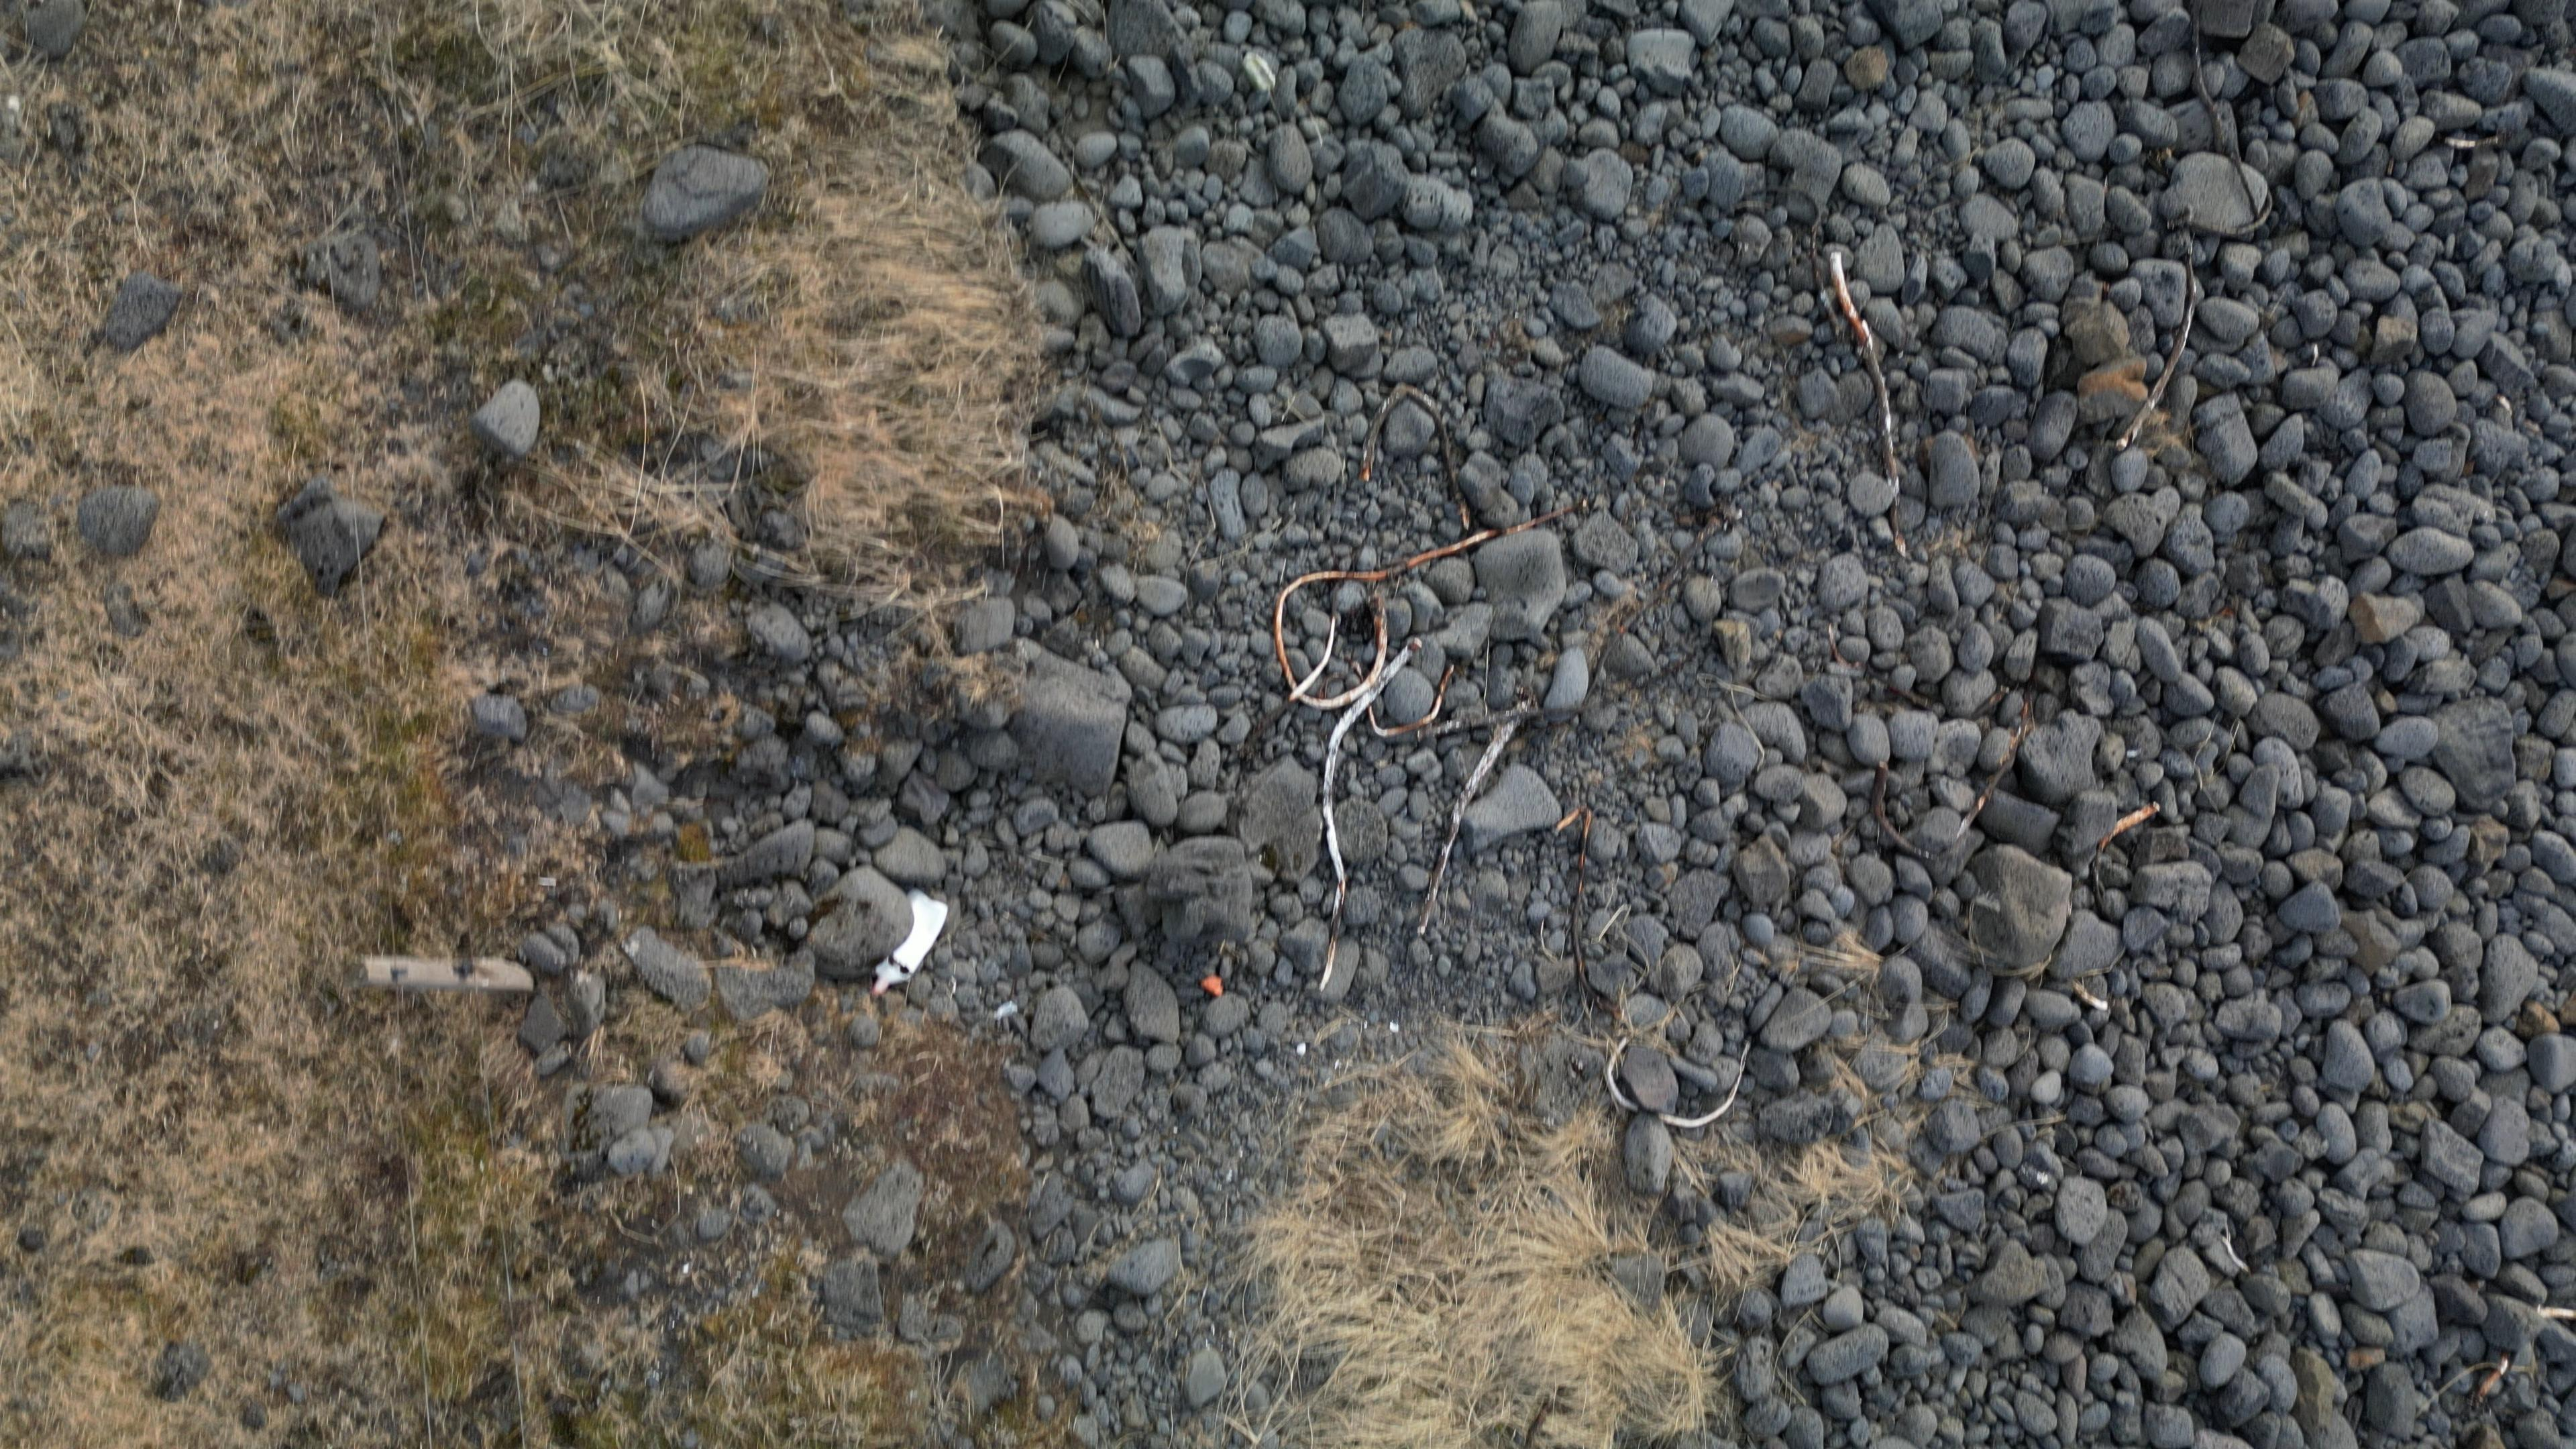trash: (870, 890, 947, 996)
